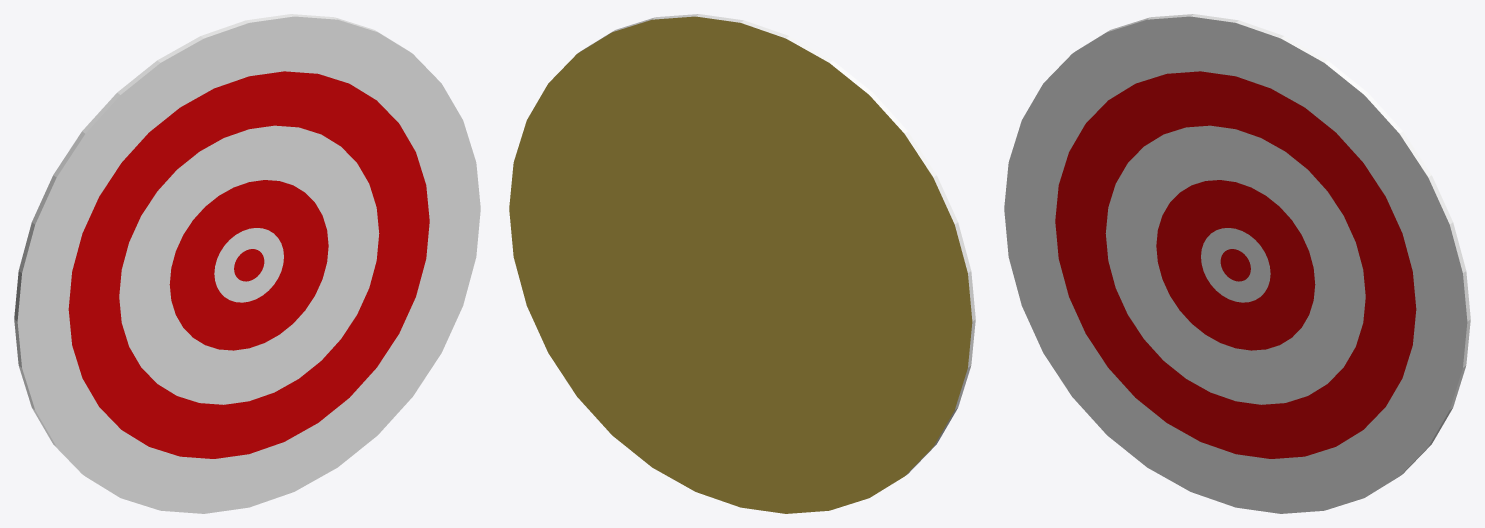
File: target.fbx
The picture shows the model from 3 angles, left to right: view 1: azimuth 30°, elevation 25°; view 2: azimuth 150°, elevation 25°; view 3: azimuth 330°, elevation 25°; orthographic projection.
Parts seen in each view (by area): view 1: Circle; view 2: Circle; view 3: Circle.
Boxes of the visible parts, x1,y1,x2,y2 form: Circle: (14, 14, 480, 513); Circle: (509, 14, 975, 513); Circle: (1004, 14, 1470, 513).
Bounding box in the file's own units: 200 × 200 × 2.57.
